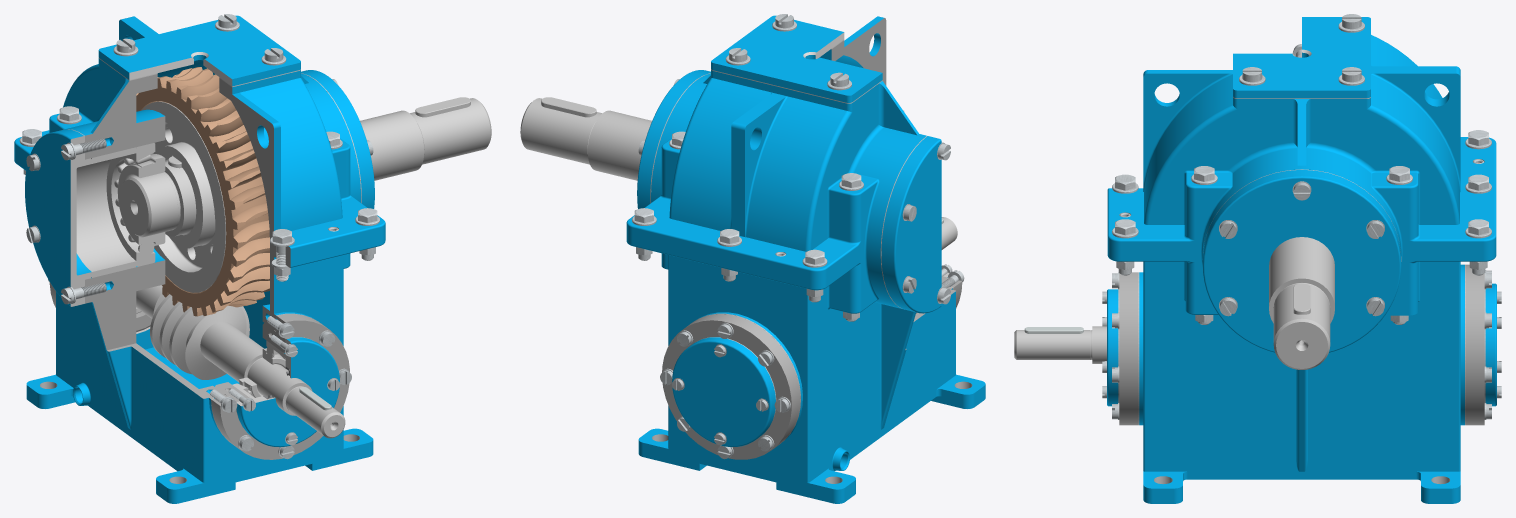
The model's file is warm_gear_box.glb.
The picture shows the model from 3 angles, left to right: view 1: azimuth 30°, elevation 25°; view 2: azimuth 150°, elevation 25°; view 3: azimuth 270°, elevation 25°; orthographic projection. The views are drawn at different scales.
Visible parts, largest first — view 1: Object_41, Object_40, Object_14, Object_3, Object_39, Object_12, Object_8, Object_4, Object_7, Object_15, Object_9, Object_18 (+7 smaller); view 2: Object_40, Object_41, Object_39, Object_14, Object_12, Object_17, Object_18, Object_26, Object_21, Object_23, Object_10, Object_19 (+1 smaller); view 3: Object_41, Object_40, Object_39, Object_12, Object_14, Object_8, Object_17, Object_18, Object_22, Object_21, Object_26, Object_30 (+3 smaller).
Part boxes in pixels (box(x1,y1,x2,y2)): Object_41: box(14, 152, 385, 503); Object_40: box(14, 15, 385, 257); Object_14: box(49, 74, 349, 459); Object_3: box(136, 67, 269, 316); Object_39: box(25, 70, 374, 447); Object_12: box(120, 98, 491, 359); Object_8: box(136, 285, 345, 438); Object_4: box(141, 101, 226, 292); Object_7: box(76, 154, 279, 392); Object_15: box(40, 52, 359, 483); Object_9: box(106, 147, 285, 397); Object_18: box(26, 38, 351, 444); Object_40: box(626, 15, 926, 280); Object_41: box(626, 197, 985, 503); Object_39: box(637, 70, 947, 447); Object_14: box(662, 18, 962, 459); Object_12: box(520, 98, 651, 180); Object_17: box(634, 14, 910, 450); Object_18: box(679, 72, 953, 451); Object_26: box(650, 48, 962, 445); Object_21: box(636, 173, 861, 457); Object_23: box(714, 181, 863, 459); Object_10: box(541, 97, 596, 117); Object_19: box(632, 140, 944, 412); Object_41: box(1107, 246, 1496, 503); Object_40: box(1107, 17, 1496, 258); Object_39: box(1107, 170, 1496, 406); Object_12: box(1269, 237, 1334, 369); Object_14: box(1119, 264, 1484, 425); Object_8: box(1014, 326, 1106, 363); Object_17: box(1118, 67, 1491, 419); Object_18: box(1112, 14, 1486, 425); Object_22: box(1118, 75, 1491, 419); Object_21: box(1102, 166, 1501, 372); Object_26: box(1118, 67, 1501, 425); Object_30: box(1112, 46, 1491, 328).
Size of the model in its own units: 0.5424 by 0.4735 by 0.5158.
12 materials, 1 textured.
